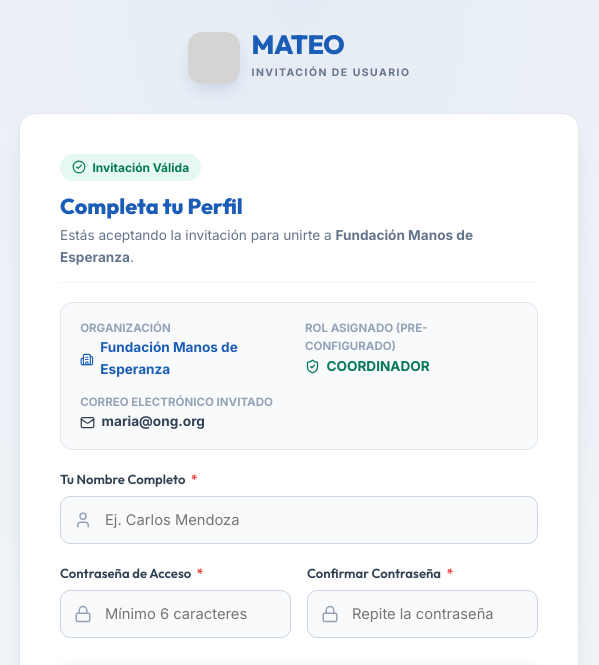
Test: AcceptInvitation Component › submits account activation with user credentials
The width and height of the screenshot is (599, 665).
Type "María Pérez" into the field with placeholder "Ej. Carlos Mendoza" at coordinates (299, 520), box [60, 496, 538, 544]
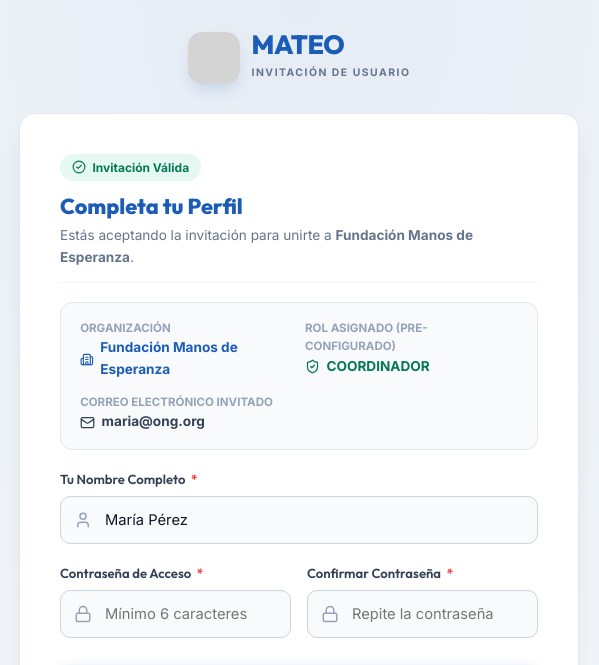
Type "password123" into the password field with placeholder "Mínimo 6 caracteres" at coordinates (176, 614), box [60, 590, 291, 638]
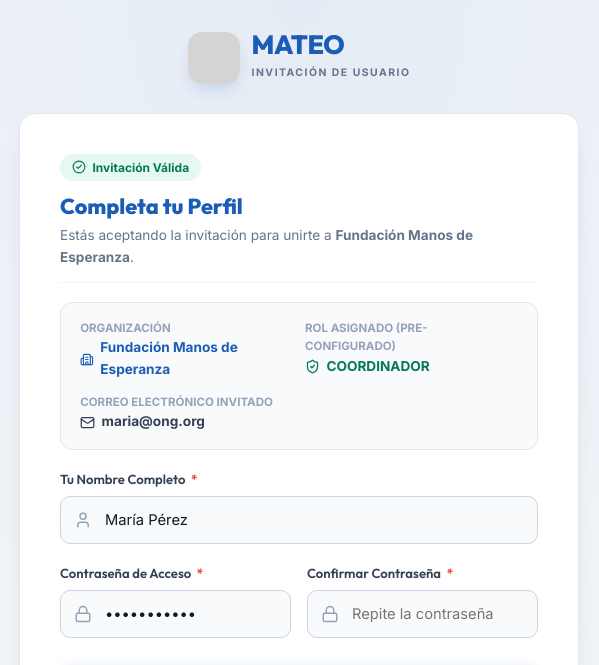
Type "password123" into the password field with placeholder "Repite la contraseña" at coordinates (422, 614), box [307, 590, 538, 638]
(page scrolled)
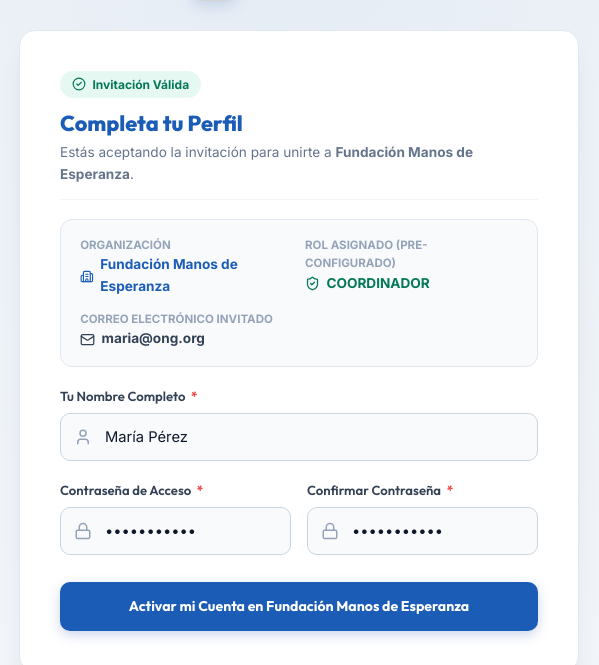
Click the button "Activar mi Cuenta en Fundación Manos de Esperanza" at coordinates (299, 606), box [60, 582, 538, 631]
(page scrolled)
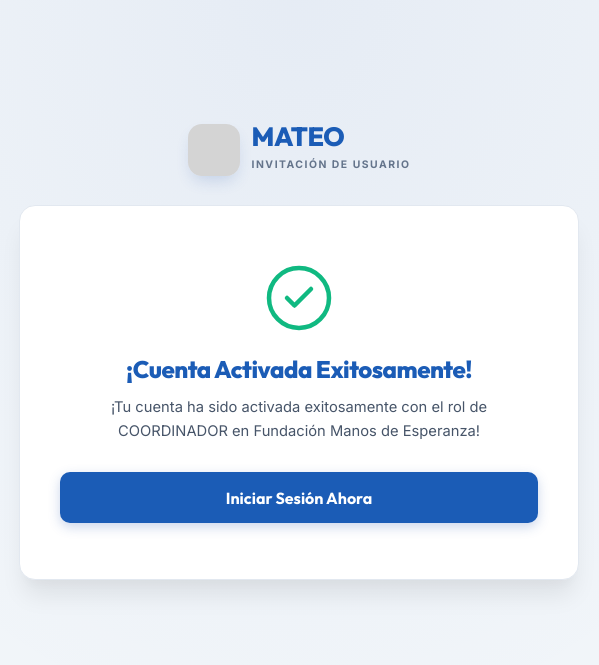
Check: the heading "¡Cuenta Activada Exitosamente!" is shown, box [126, 354, 472, 384]
